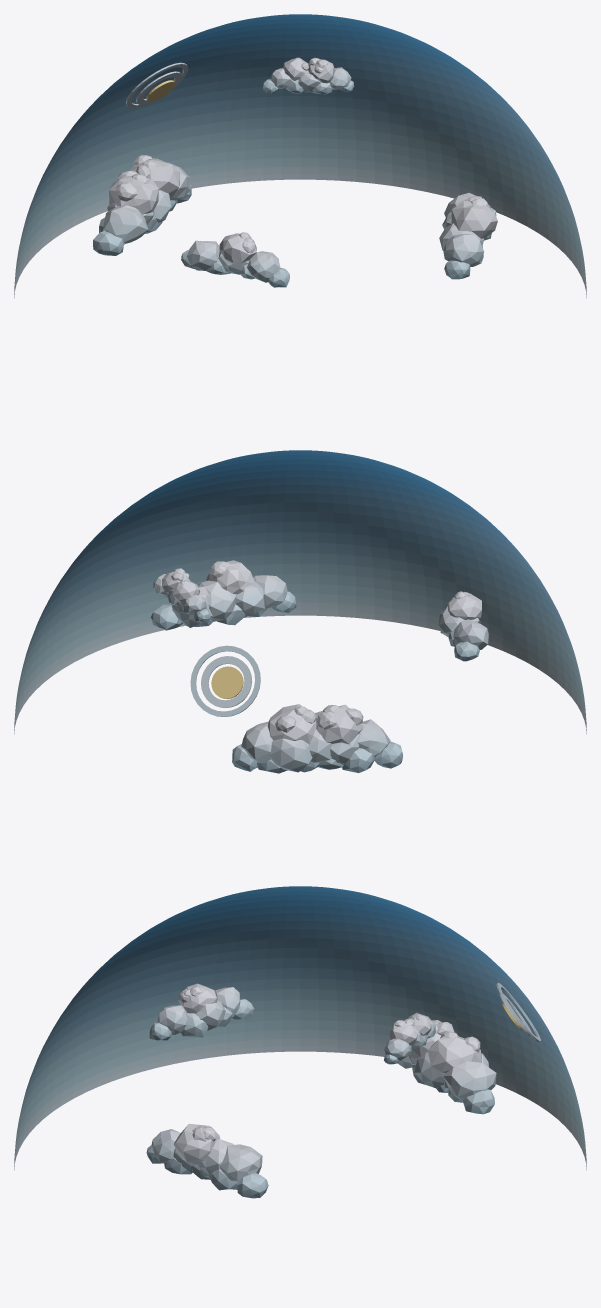
Rendered from festival-day-dome.glb.
3 views of the same model, one above another, from view 1: azimuth 30°, elevation 25°; view 2: azimuth 150°, elevation 25°; view 3: azimuth 270°, elevation 25° (orthographic).
Parts seen in each view (by area): view 1: festival_day_dome; view 2: festival_day_dome; view 3: festival_day_dome.
Boxes of the visible parts, box(x1,y1,x2,y2) form: festival_day_dome: box(14, 14, 586, 298); festival_day_dome: box(14, 450, 586, 773); festival_day_dome: box(14, 886, 586, 1198).
Bounding box in the file's own units: 5.2 × 2.6 × 5.2.
